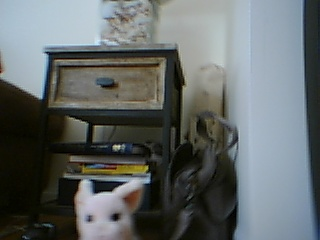piggy: (71, 177, 146, 240)
